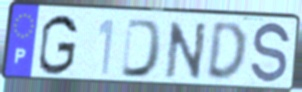1: (97, 18, 115, 77)
D: (204, 20, 249, 85), (119, 17, 165, 80)
G: (36, 13, 80, 78)
N: (164, 20, 209, 82)
S: (248, 21, 292, 88)
